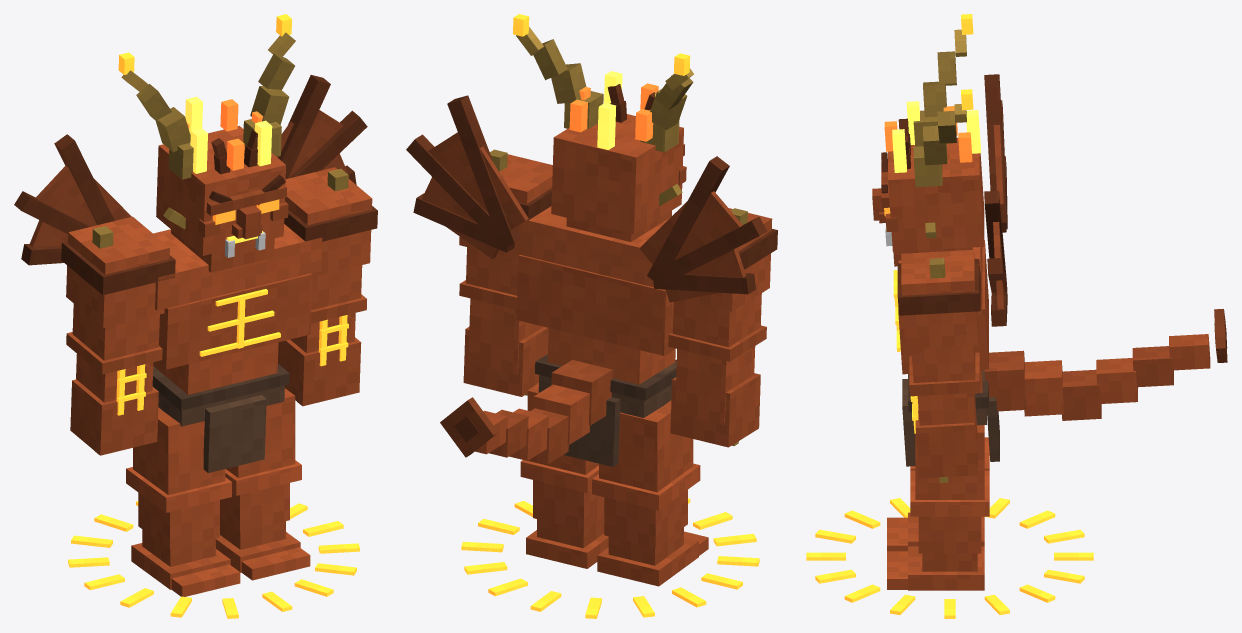
Rendered from demon_base_v2_evo3.glb.
3 renders of one model, left to right at view 1: azimuth 30°, elevation 25°; view 2: azimuth 150°, elevation 25°; view 3: azimuth 270°, elevation 25°, orthographic. The views are drawn at different scales.
Visible parts, largest first — view 1: Torso, Head, ArmR, ArmL, LegR, LegL, Root; view 2: Torso, Head, ArmR, LegR, ArmL, LegL, Root; view 3: Torso, Head, ArmL, LegL, Root, LegR.
Part boxes in pixels (x1,y1,x2,y2): Torso: (14, 75, 367, 472); Head: (118, 14, 295, 272); ArmR: (61, 216, 175, 455); ArmL: (278, 167, 377, 406); LegR: (126, 407, 240, 596); LegL: (216, 388, 310, 580); Root: (68, 501, 359, 618); Torso: (406, 95, 767, 466); Head: (513, 14, 693, 241); ArmR: (668, 208, 777, 447); LegR: (592, 400, 708, 586); ArmL: (459, 149, 552, 396); LegL: (520, 382, 608, 568); Root: (461, 498, 759, 618); Torso: (893, 74, 1227, 466); Head: (872, 14, 984, 266); ArmL: (897, 249, 980, 482); LegL: (887, 425, 989, 590); Root: (806, 498, 1093, 618); LegR: (887, 437, 989, 551).
Bounding box in the file's own units: 1.58 × 2.25 × 1.7.
Materials: 32 (32 with a texture image).
